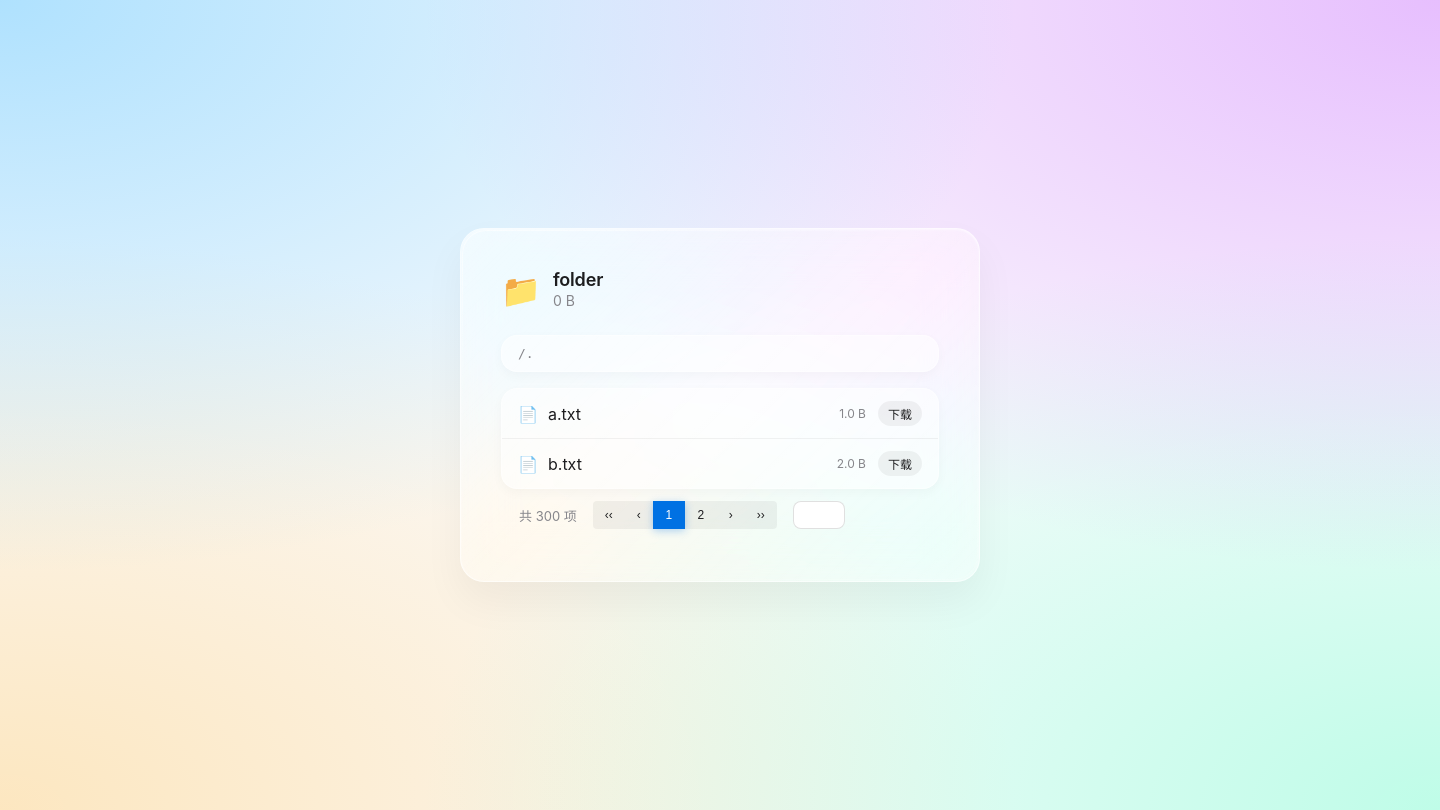
Test: SharePageClient directory pagination › large directory shows pagination and loads the next page
The image size is (1440, 810).
Expected: the text "a.txt" is shown, [548,404,581,424]
Expected: the text "共 300 项" is shown, [519,506,577,524]
Click the button named "下一页": (731, 515) [717,501,745,529]
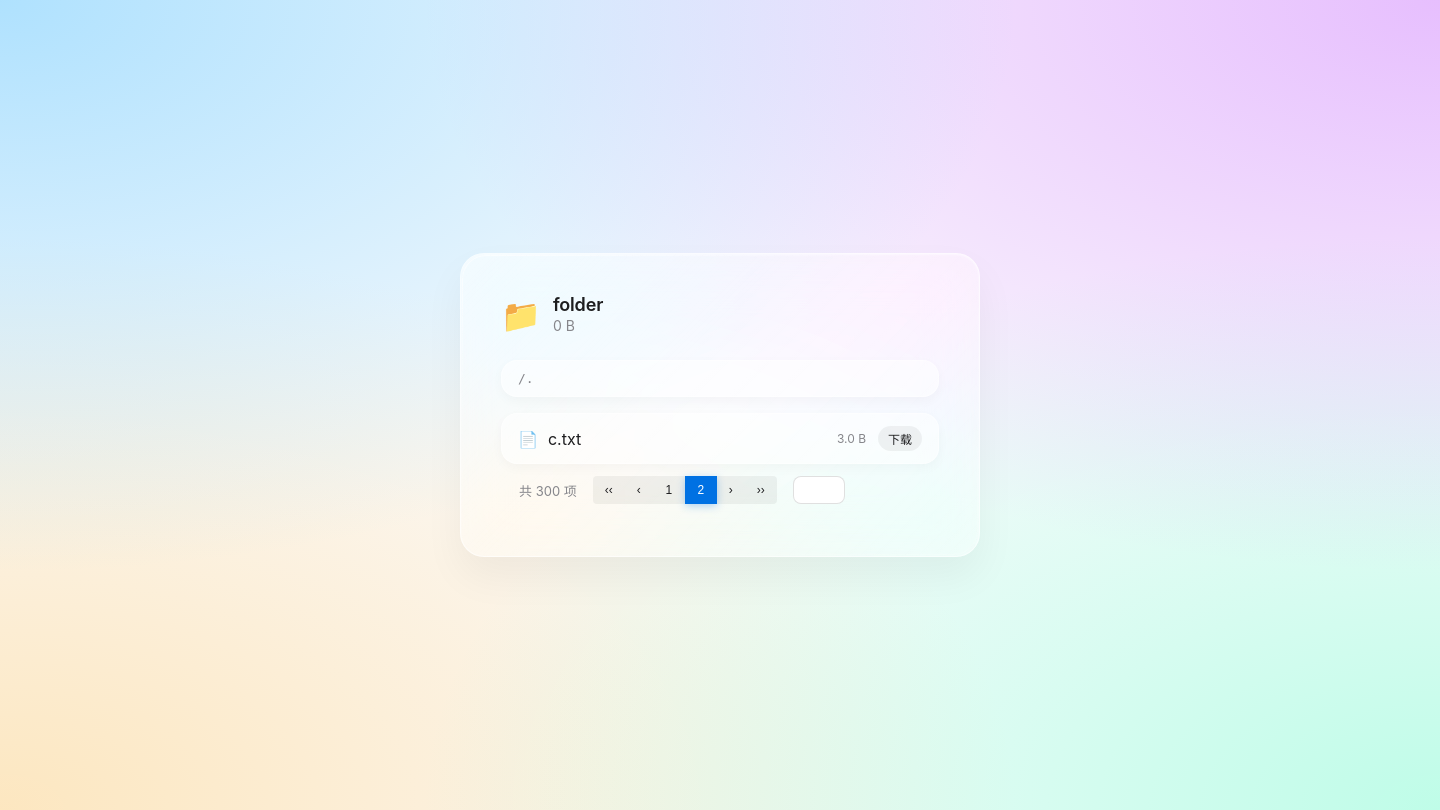
Now the text "c.txt" is shown, box [548,428,581,448]
Now the text "a.txt" is gone
